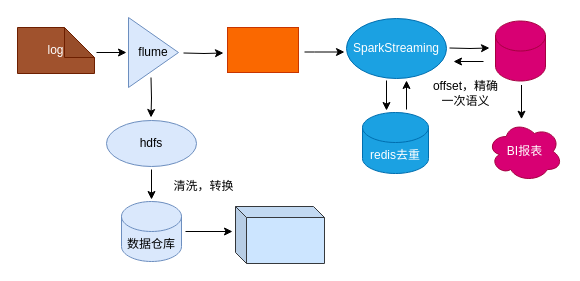
Image size: 580x281. Some labels were removed from this diagram. Each missing label, with the centre of its shape:
hive/hbase/统计/机器学习: (279,235)
kafka: (262,49)
mysql: (520,50)
SQL: (209,247)
